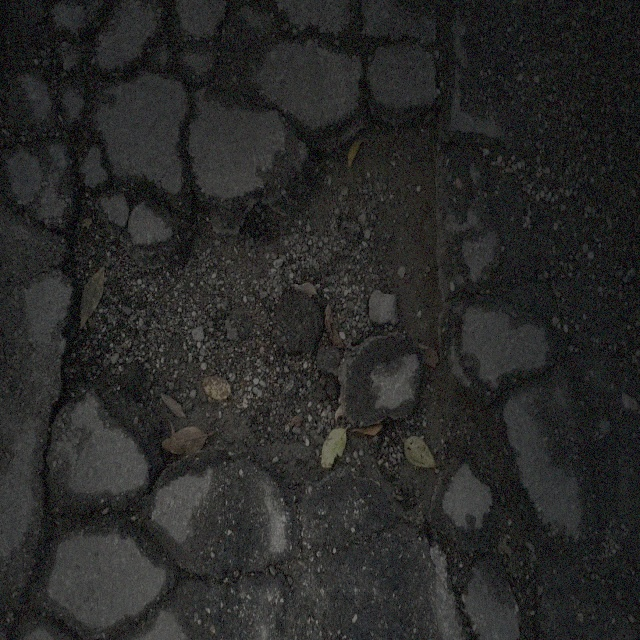pothole: (62, 105, 448, 487)
